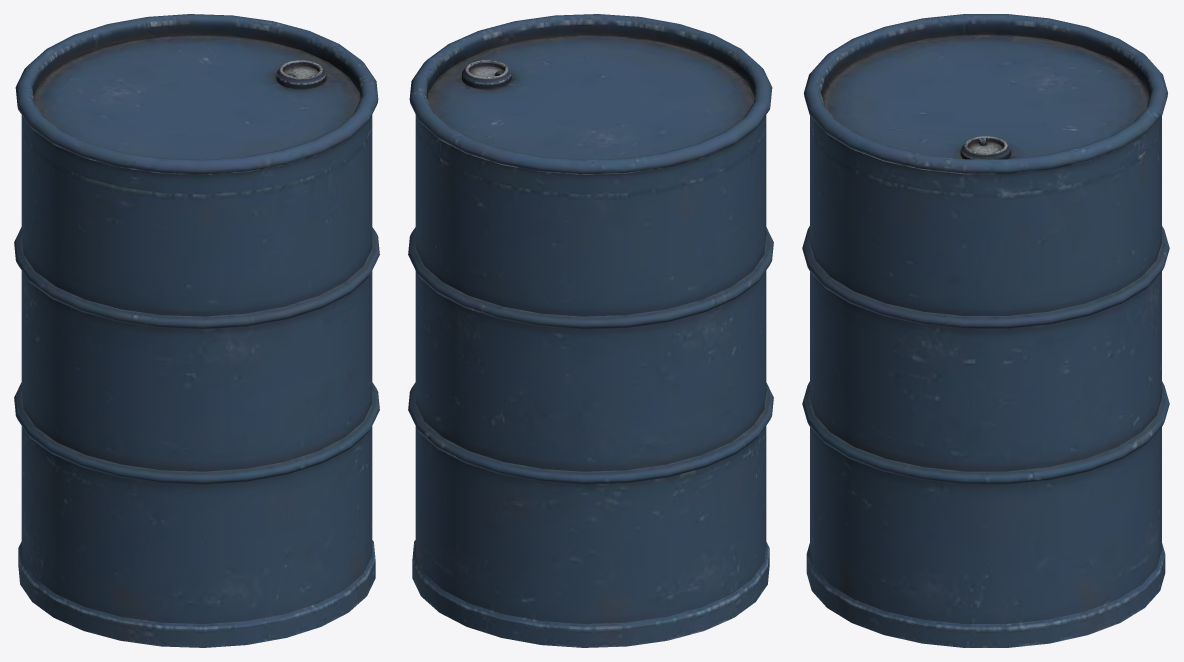
File: barrel_03.glb
3 renders of one model, left to right at view 1: azimuth 30°, elevation 25°; view 2: azimuth 150°, elevation 25°; view 3: azimuth 270°, elevation 25°, orthographic.
Parts seen in each view (by area): view 1: barrel_03; view 2: barrel_03; view 3: barrel_03.
Boxes of the visible parts, x1=… form: barrel_03: x1=14, y1=14, x2=379, y2=647; barrel_03: x1=408, y1=14, x2=773, y2=647; barrel_03: x1=802, y1=14, x2=1169, y2=647.
Size of the model in its own units: 0.634 by 0.9305 by 0.6386.
1 material, 1 textured.
